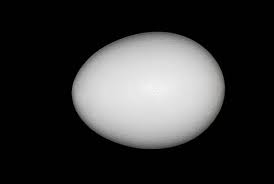egg: (73, 32, 224, 149)
